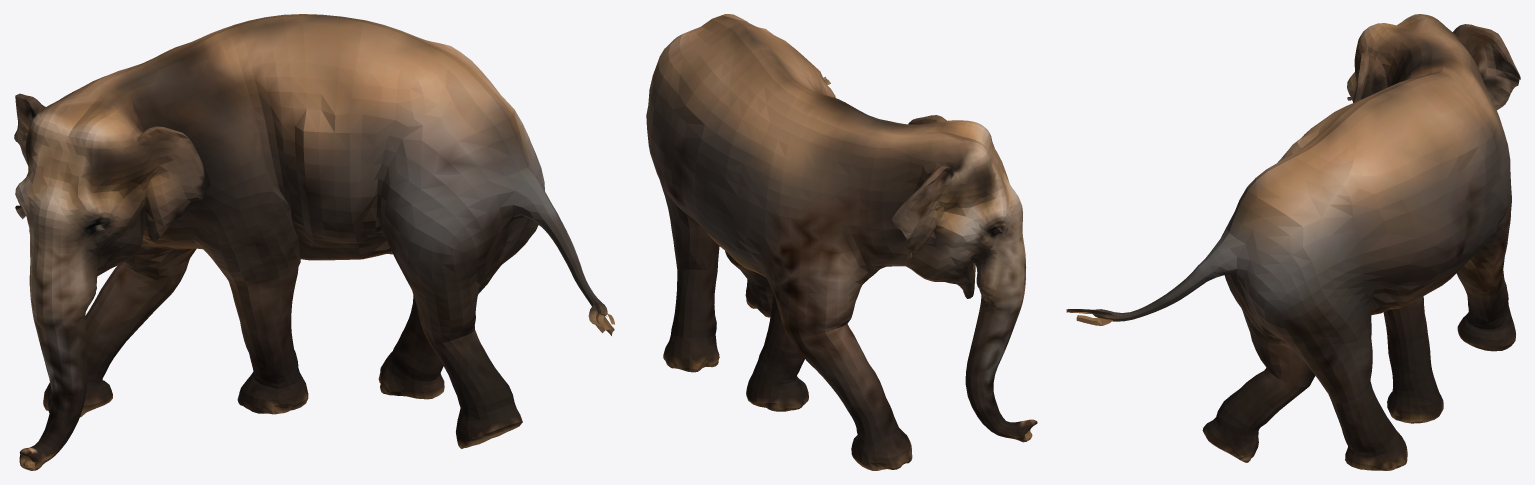
The model's file is elephant.mesh.glb.
The picture shows the model from 3 angles, left to right: view 1: azimuth 30°, elevation 25°; view 2: azimuth 150°, elevation 25°; view 3: azimuth 270°, elevation 25°; orthographic projection. The views are drawn at different scales.
Parts seen in each view (by area): view 1: root; view 2: root; view 3: root.
Boxes of the visible parts, left/top/right/bottom form: root: left=14, top=14, right=614, bottom=470; root: left=646, top=14, right=1037, bottom=470; root: left=1066, top=14, right=1520, bottom=470.
Size of the model in its own units: 0.4714 by 0.3721 by 0.4483.
Materials: 1 (1 with a texture image).
